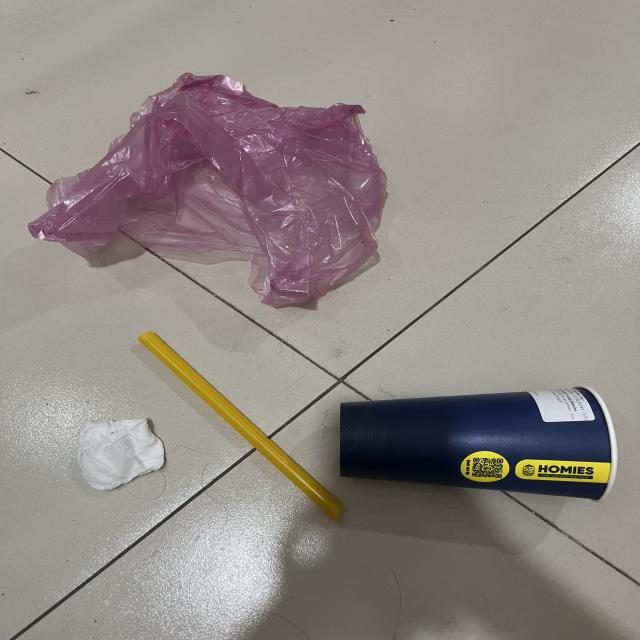bag: (27, 72, 388, 308)
drinking straw: (138, 331, 341, 523)
napkin: (78, 417, 167, 490)
plastic glass: (339, 386, 618, 504)
